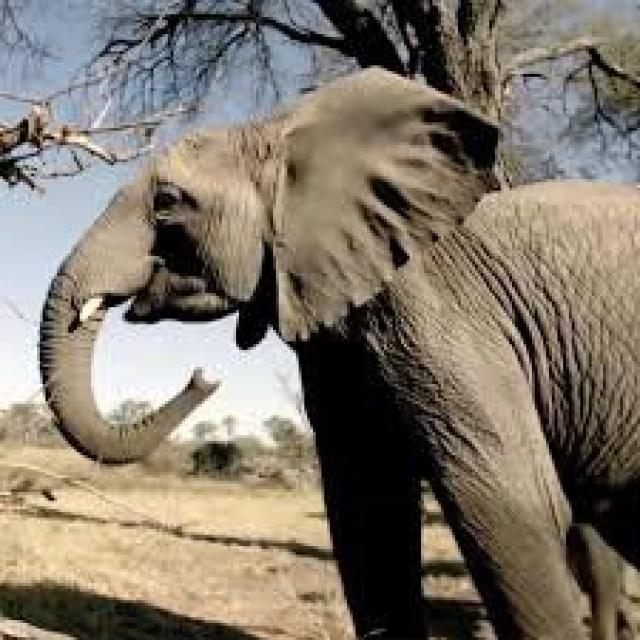Elephant: (34, 63, 637, 637)
